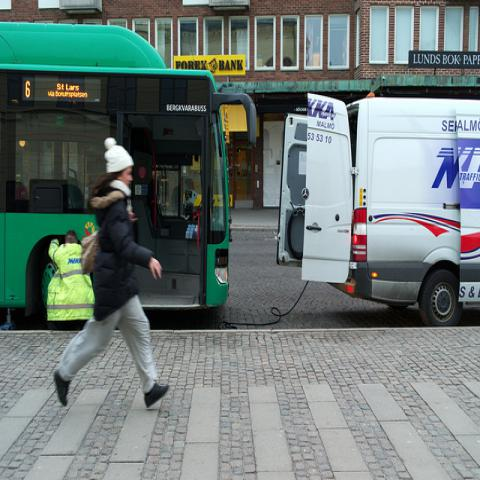bus: (0, 22, 257, 310)
truck: (276, 90, 479, 328)
